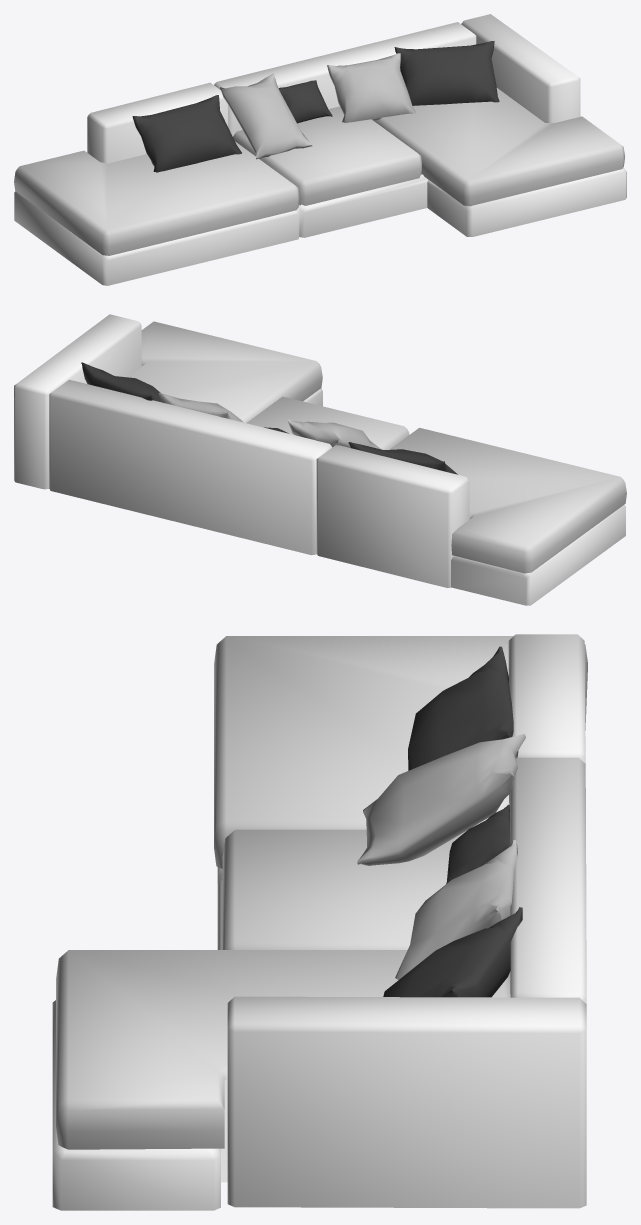
File: sofa_030.glb
3 views of the same model, one above another, from view 1: azimuth 30°, elevation 25°; view 2: azimuth 150°, elevation 25°; view 3: azimuth 270°, elevation 25° (orthographic). The views are drawn at different scales.
Visible parts, largest first — view 1: sofa_030; view 2: sofa_030; view 3: sofa_030.
Boxes of the visible parts, x1=… form: sofa_030: x1=14, y1=14, x2=626, y2=285; sofa_030: x1=14, y1=314, x2=626, y2=605; sofa_030: x1=52, y1=634, x2=587, y2=1210.
Bounding box in the file's own units: 3.23 × 0.6541 × 1.55.
Materials: 1 (1 with a texture image).
